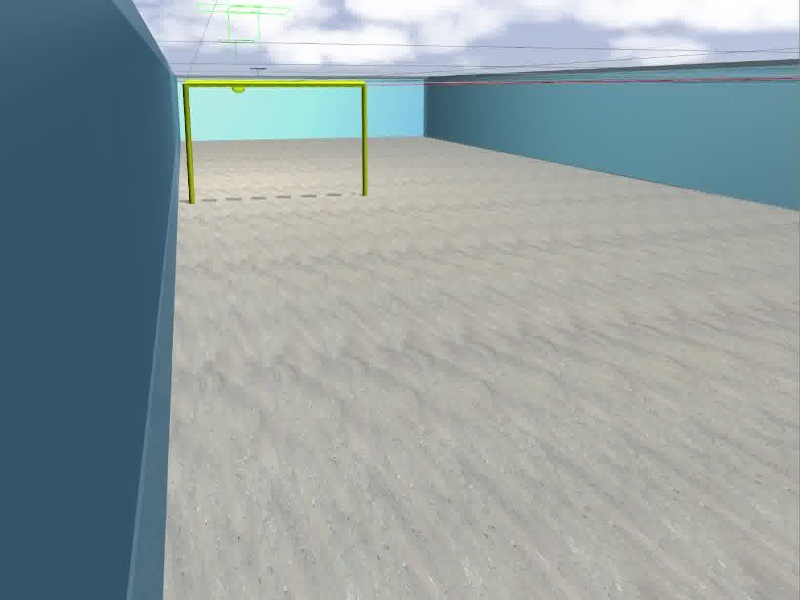gate: (180, 80, 372, 204)
